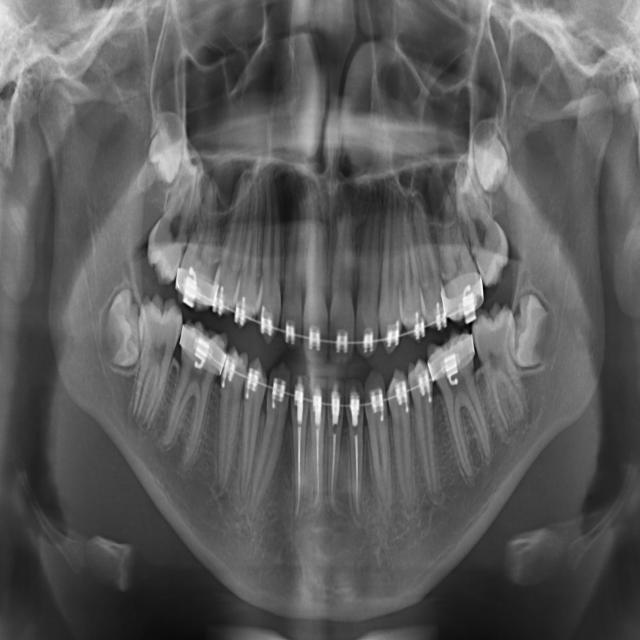CompositeResinRestoration: (292, 372, 308, 426), (348, 383, 366, 429), (330, 381, 346, 430), (311, 371, 325, 422)
RootCanalTreatment: (328, 436, 348, 535), (288, 428, 307, 530), (310, 428, 329, 530), (348, 430, 366, 537)
